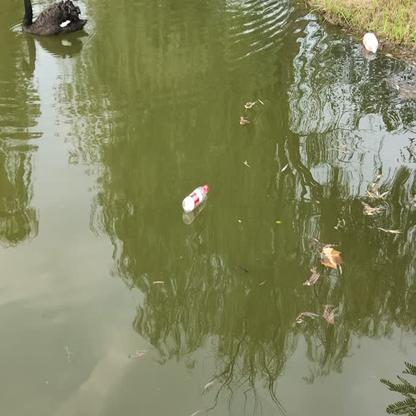plastic bottle: (180, 184, 209, 210), (364, 32, 379, 52)
